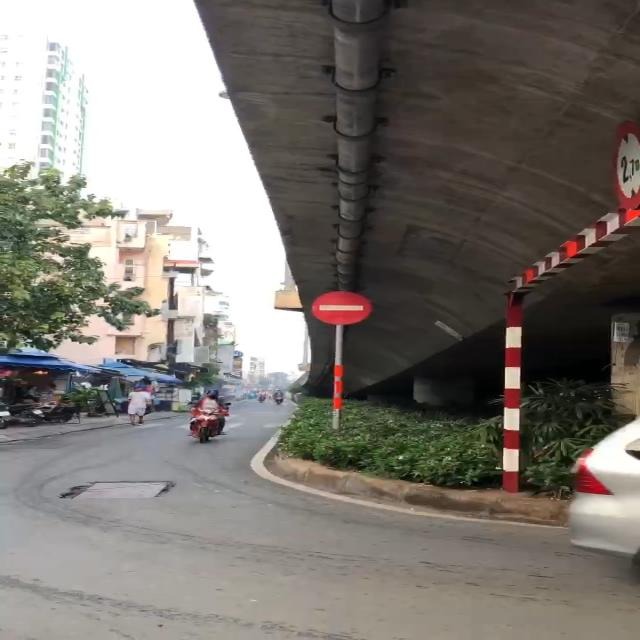Bien bao cam di nguoc chieu: (311, 290, 380, 326)
